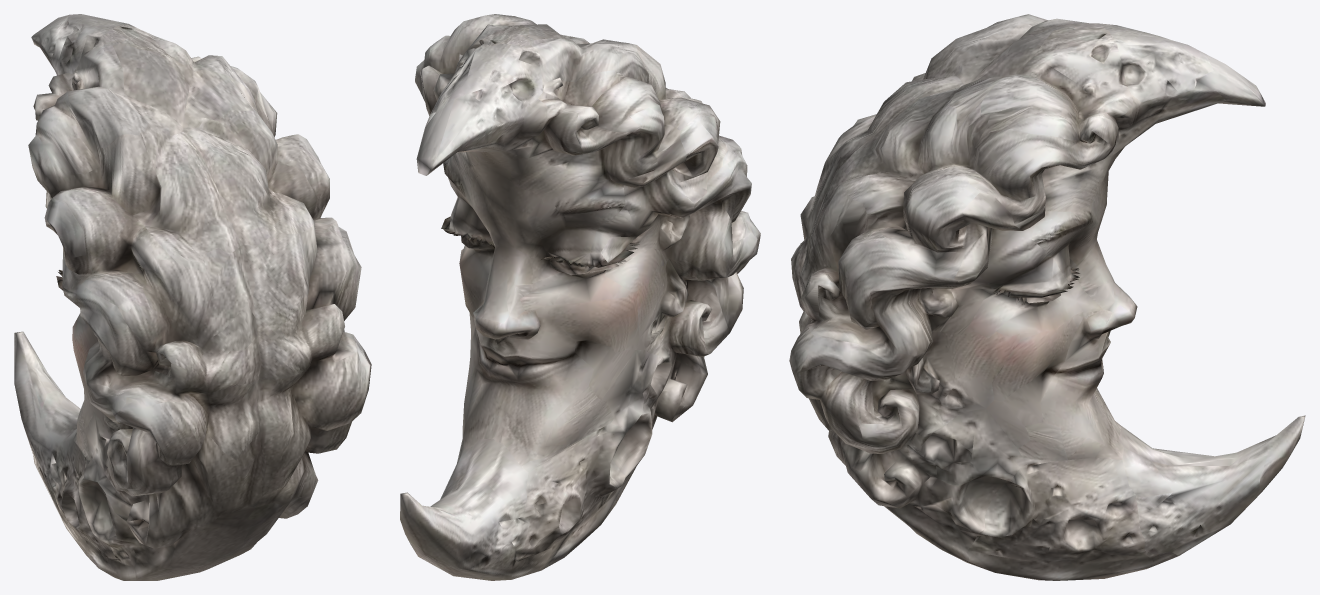
Rendered from S-moon.glb.
3 renders of one model, left to right at view 1: azimuth 30°, elevation 25°; view 2: azimuth 150°, elevation 25°; view 3: azimuth 270°, elevation 25°, orthographic. The views are drawn at different scales.
Parts seen in each view (by area): view 1: tripo_node_8aef3650-8dd3-4c02-8d1d-b16b33783757; view 2: tripo_node_8aef3650-8dd3-4c02-8d1d-b16b33783757; view 3: tripo_node_8aef3650-8dd3-4c02-8d1d-b16b33783757.
Boxes of the visible parts, bbox=[...] form: tripo_node_8aef3650-8dd3-4c02-8d1d-b16b33783757: bbox=[14, 14, 371, 580]; tripo_node_8aef3650-8dd3-4c02-8d1d-b16b33783757: bbox=[400, 14, 760, 580]; tripo_node_8aef3650-8dd3-4c02-8d1d-b16b33783757: bbox=[789, 14, 1305, 580].
Bounding box in the file's own units: 0.5243 × 0.9771 × 0.8448.
Materials: 1 (1 with a texture image).
